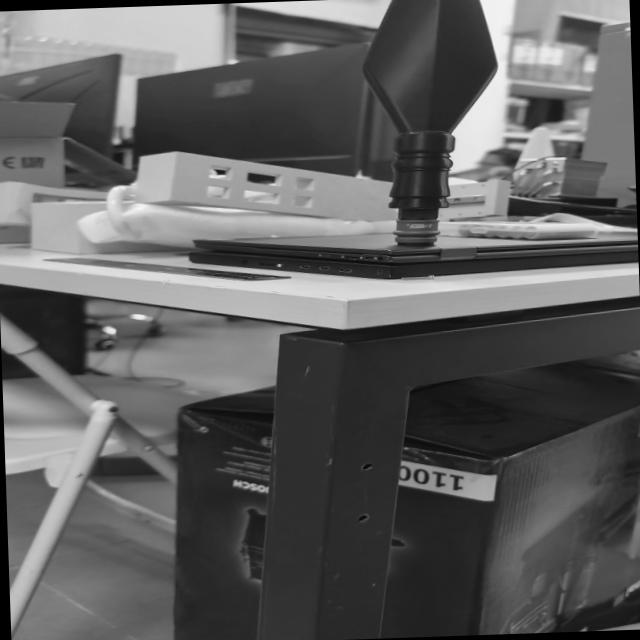base: (388, 210, 453, 254)
